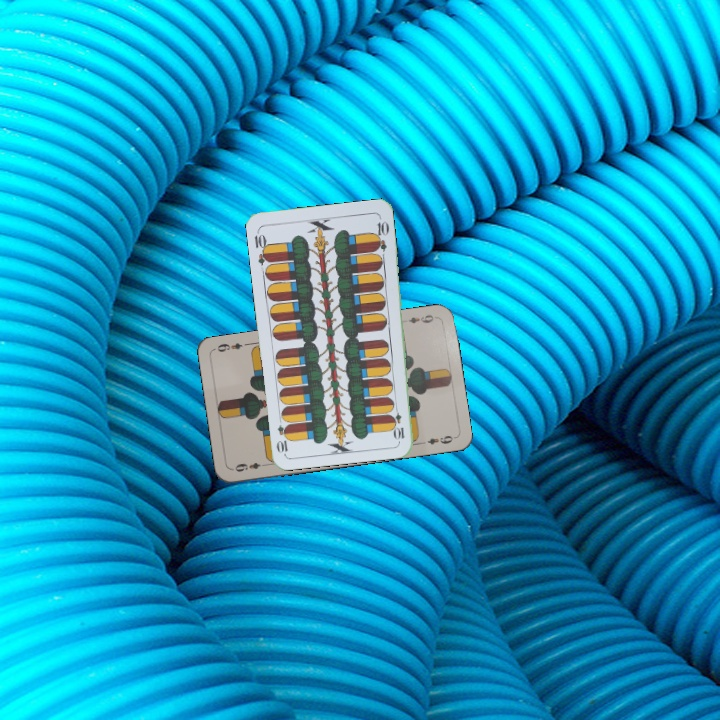E10: (250, 227, 272, 267), (390, 401, 407, 442)
E9: (229, 459, 270, 475), (404, 310, 436, 326)
